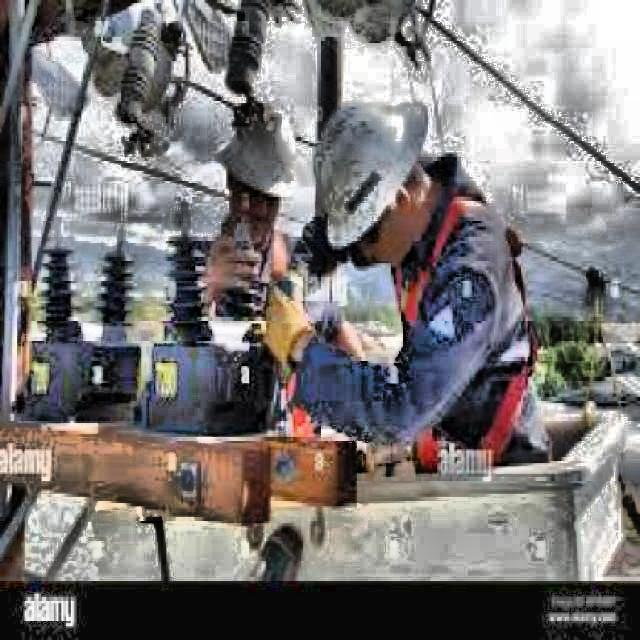safety_helmet: (305, 97, 434, 255), (219, 117, 303, 200)
safety_jacket: (387, 183, 562, 472)
